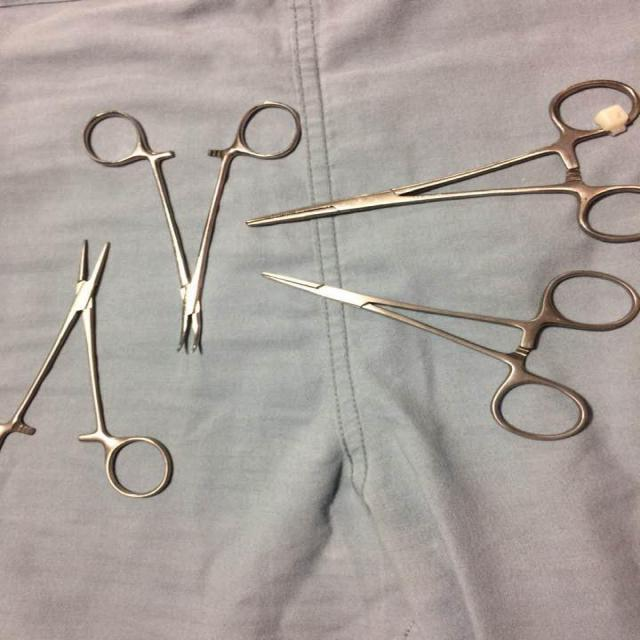Hemostat: (238, 75, 639, 248), (256, 267, 636, 444), (77, 98, 307, 362), (0, 236, 177, 504)
